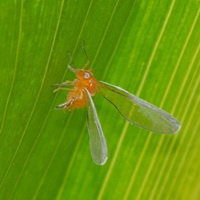insect: (53, 65, 180, 164)
